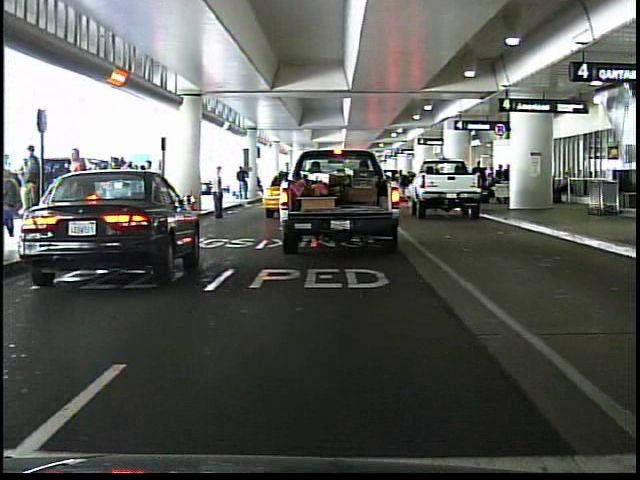person: (65, 146, 94, 234), (207, 162, 231, 224), (236, 162, 255, 198), (397, 167, 412, 211)
